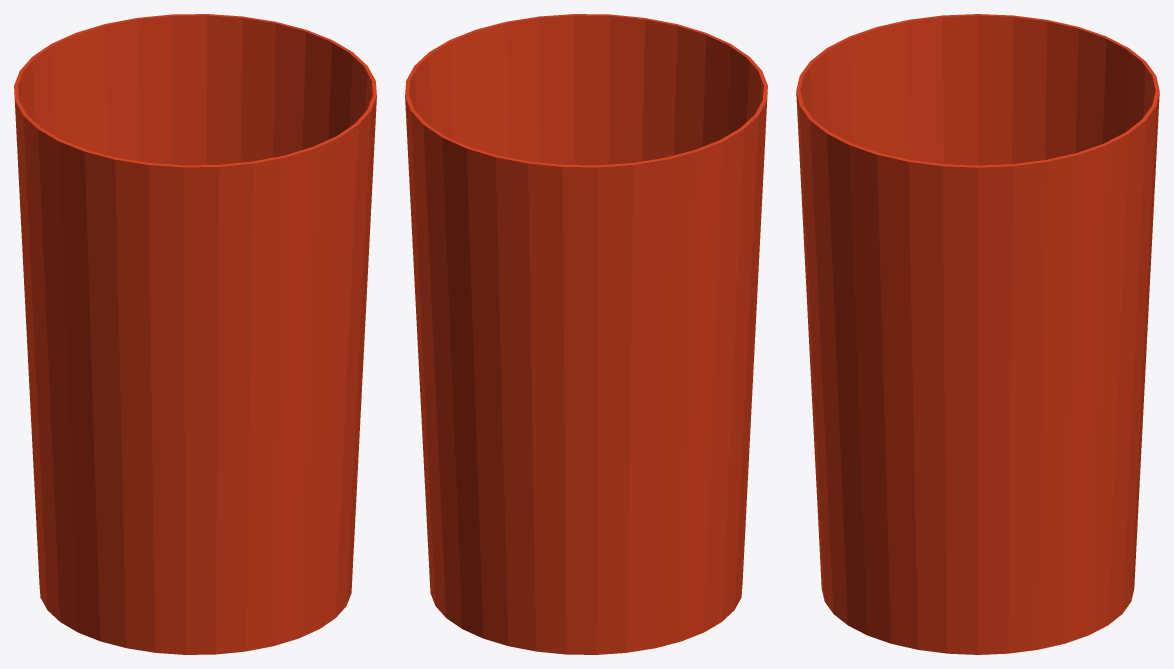
The model's file is orange_cup.fbx.
3 renders of one model, left to right at view 1: azimuth 30°, elevation 25°; view 2: azimuth 150°, elevation 25°; view 3: azimuth 270°, elevation 25°, orthographic.
Parts seen in each view (by area): view 1: cup; view 2: cup; view 3: cup.
Boxes of the visible parts, left/top/right/bottom form: cup: left=14, top=14, right=376, bottom=654; cup: left=405, top=14, right=767, bottom=654; cup: left=796, top=14, right=1159, bottom=654.
Bounding box in the file's own units: 71.15 × 108 × 71.15.
